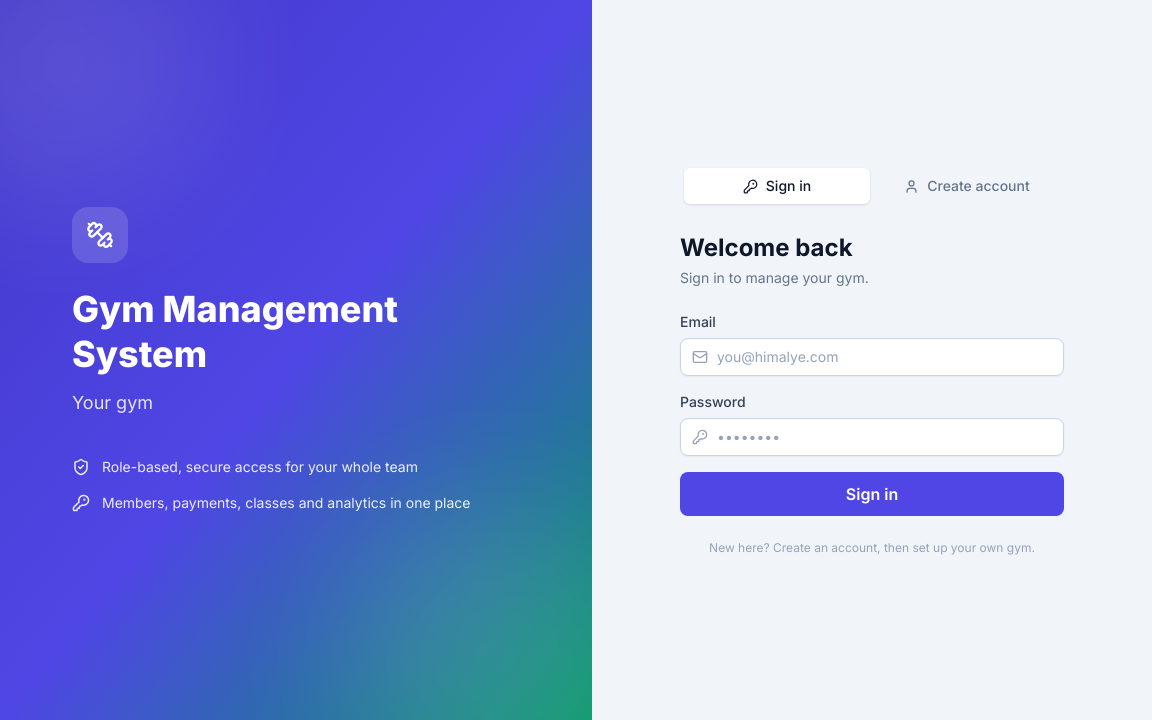
it: Login authentication failures › shows a clear message for wrong credentials instead of failing silently
Type "owner@himalye.com" into the field with placeholder "you@himalye.com" at (872, 357), box [680,338,1064,376]
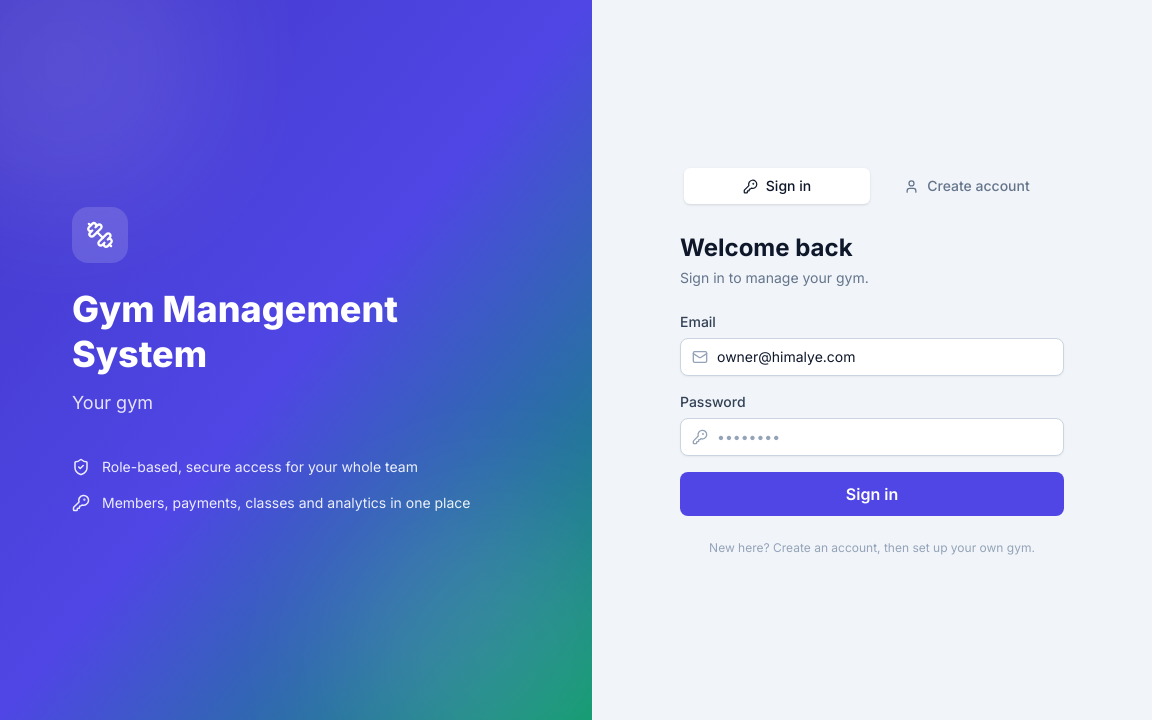
Type "secret123" into the password field with placeholder "••••••••" at (872, 437), box [680,418,1064,456]
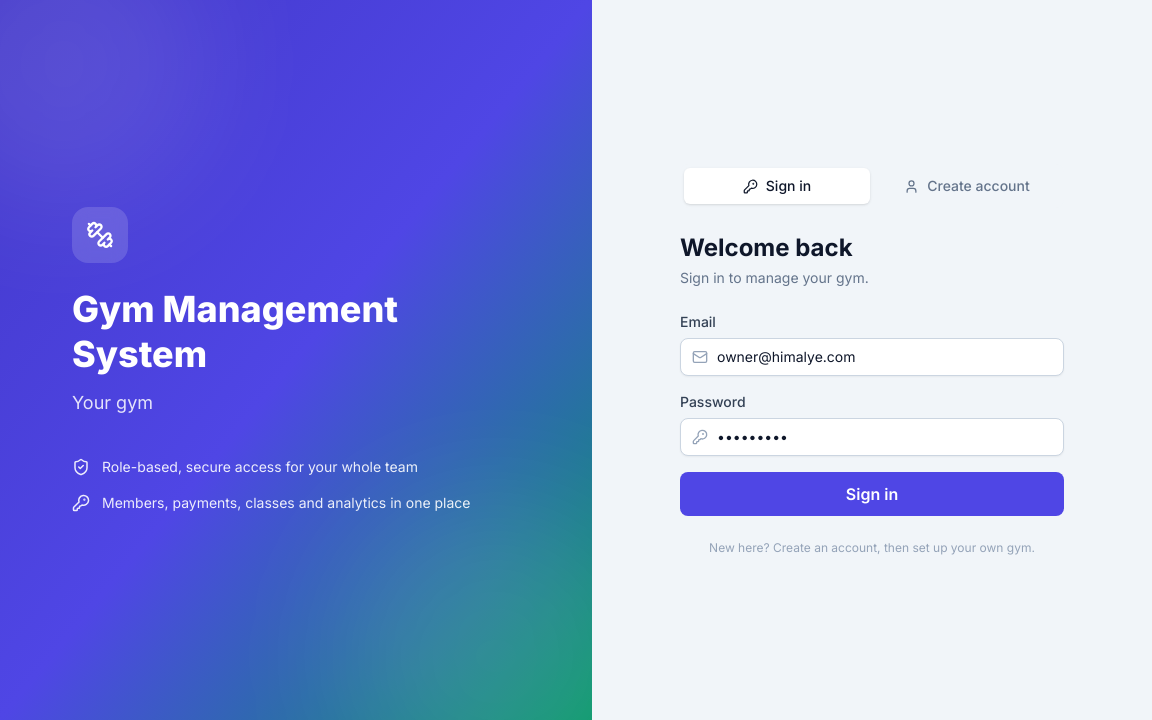
Submit the form, box [680,312,1064,516]
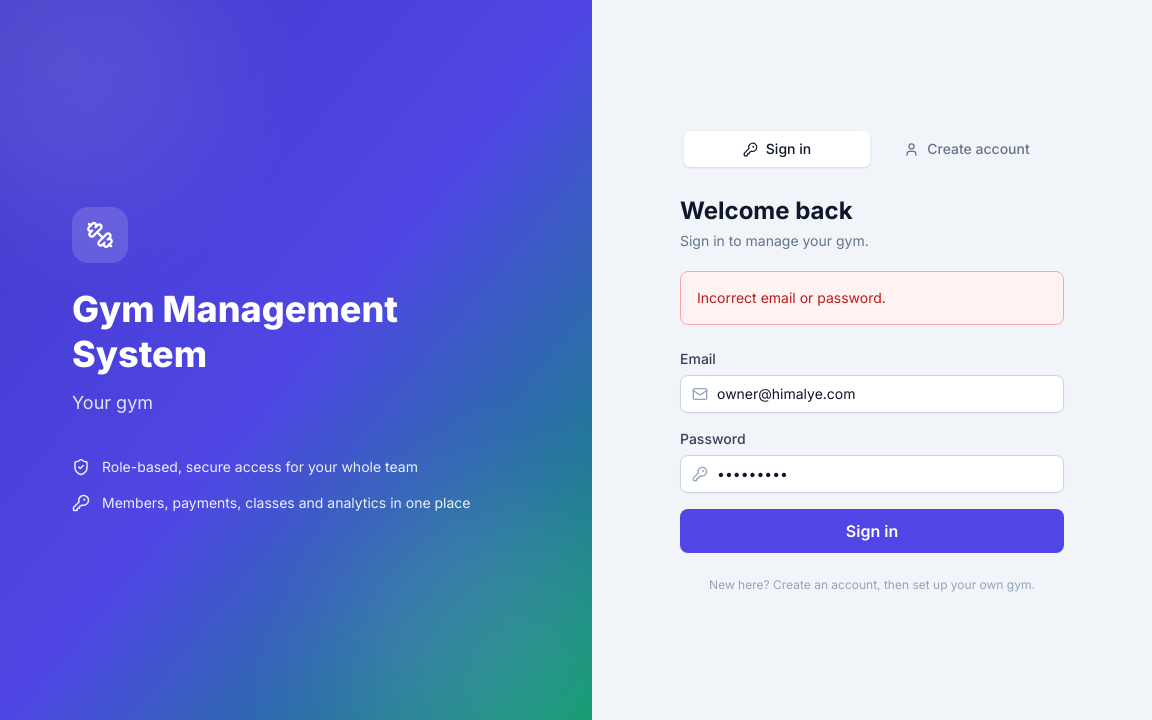
Expected: the text "Incorrect email or password." is shown, [680,271,1064,325]
